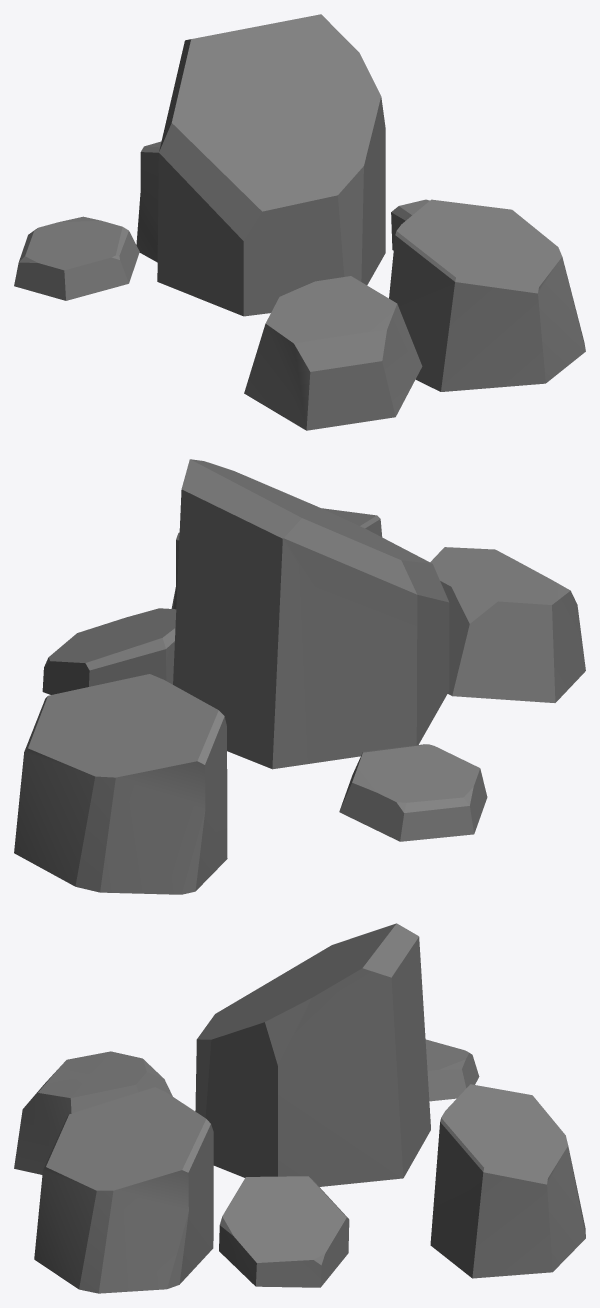
File: rock_formation8.fbx
The picture shows the model from 3 angles, top to bottom: view 1: azimuth 30°, elevation 25°; view 2: azimuth 150°, elevation 25°; view 3: azimuth 270°, elevation 25°; orthographic projection. The views are drawn at different scales.
Visible parts, largest first — view 1: rock; view 2: rock; view 3: rock.
Boxes of the visible parts, x1=… form: rock: x1=14, y1=14, x2=585, y2=430; rock: x1=14, y1=459, x2=585, y2=894; rock: x1=14, y1=923, x2=585, y2=1293.
Bounding box in the file's own units: 2200 × 1388 × 2571.
